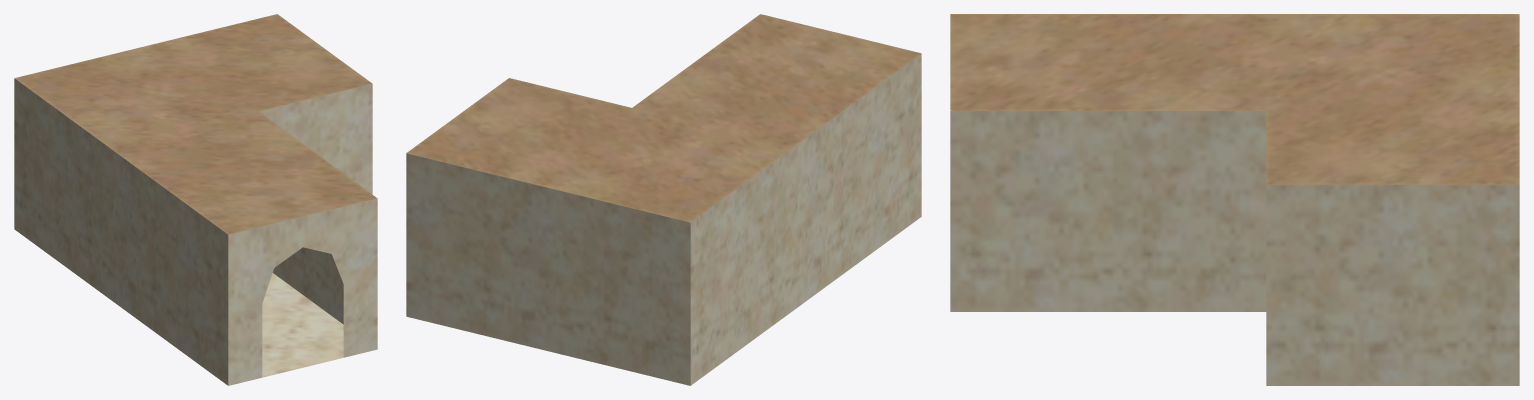
File: thm_tato_imprv_building_s08_r1_foyer_mesh_l1.fbx
3 renders of one model, left to right at view 1: azimuth 30°, elevation 25°; view 2: azimuth 150°, elevation 25°; view 3: azimuth 270°, elevation 25°, orthographic. The views are drawn at different scales.
Parts seen in each view (by area): view 1: mesh_node; view 2: mesh_node; view 3: mesh_node.
Boxes of the visible parts, x1,y1,x2,y2 form: mesh_node: (14,14,377,385); mesh_node: (406,14,921,385); mesh_node: (950,14,1519,385).
Size of the model in its own units: 7.05 by 3.87 by 9.93.
